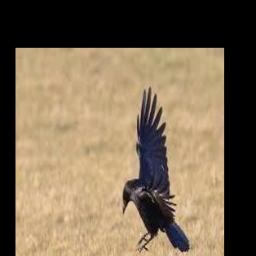Crow: (122, 87, 191, 254)
